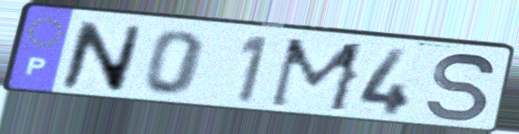0: (141, 28, 207, 99)
1: (236, 35, 270, 108)
4: (355, 45, 415, 119)
M: (264, 36, 371, 116)
N: (57, 19, 147, 96)
S: (424, 50, 499, 126)
